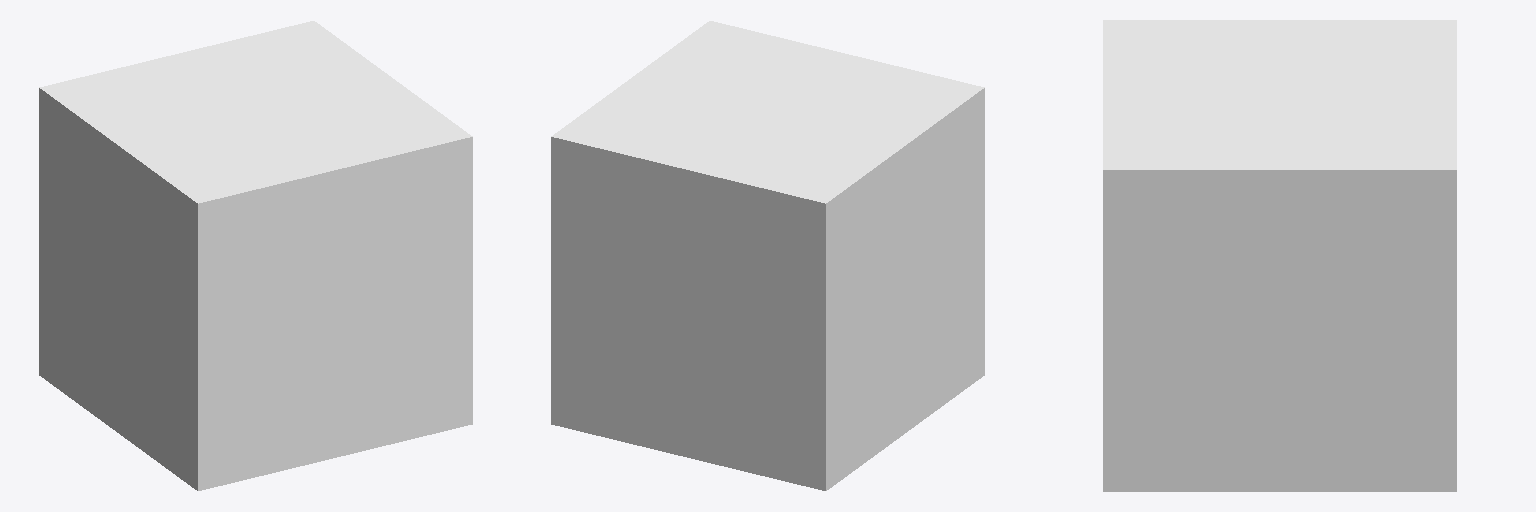
The robot description file, URDF, robot "Key_cube_bottle_preprocessed_convex":
<?xml version="1.0" ?>
<robot name="Key_cube_bottle_preprocessed_convex">
  <link name="baseLink">
    <contact>
    	<friction_anchor/>
    	   <lateral_friction value="1.0"/>
    </contact>
    <inertial>
      <origin rpy="0 0 0" xyz="0 0 0"/>
       <!-- mass controls penetration -->
       <mass value=".5"/>
       <inertia ixx="1e-4" ixy="0" ixz="0" iyy="1e-4" iyz="0" izz="1e-4"/>
    </inertial>
    <visual>
      <origin rpy="0 0 0" xyz="0 0 0"/>
      <geometry>
        <mesh filename="Key_cube_bottle_preprocessed_convex.obj"/>
      </geometry>
       <material name="white">
        <color rgba="1 1 1 1"/>
      </material>
    </visual>
    <collision>
      <origin rpy="0 0 0" xyz="0 0 0"/>
      <geometry>
        <mesh filename="Key_cube_bottle_preprocessed_convex.obj"/>
      </geometry>
    </collision>
  </link>
</robot>

--- Facts derived from the render (not from the file) ---
Views: 3 orthographic renders of the robot side by side, from view 1: azimuth 30°, elevation 25°; view 2: azimuth 150°, elevation 25°; view 3: azimuth 270°, elevation 25°.
Model Key_cube_bottle_preprocessed_convex with 1 links and 0 joints (none), rooted at baseLink, posed all joints at 0.
Visible links, largest first — view 1: baseLink; view 2: baseLink; view 3: baseLink.
Link boxes in pixels (box(x1,y1,x2,y2)): baseLink: box(39, 21, 472, 490); baseLink: box(551, 21, 984, 490); baseLink: box(1103, 20, 1456, 491).
Size in the robot's own frame: 0.0808 by 0.0808 by 0.0808 metres.
Meshes: 1 distinct files referenced, 1 mesh visuals loaded (1 OBJ).